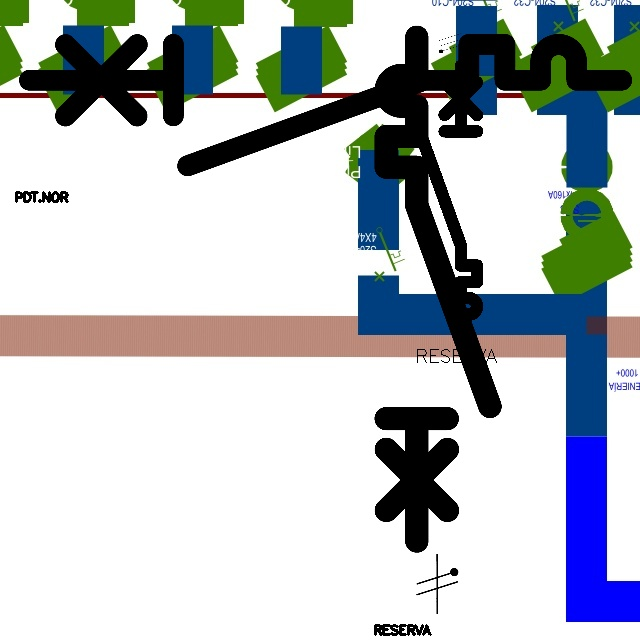interruptor_termomagnetico: (14, 29, 637, 181), (373, 24, 502, 554), (415, 59, 484, 342)
